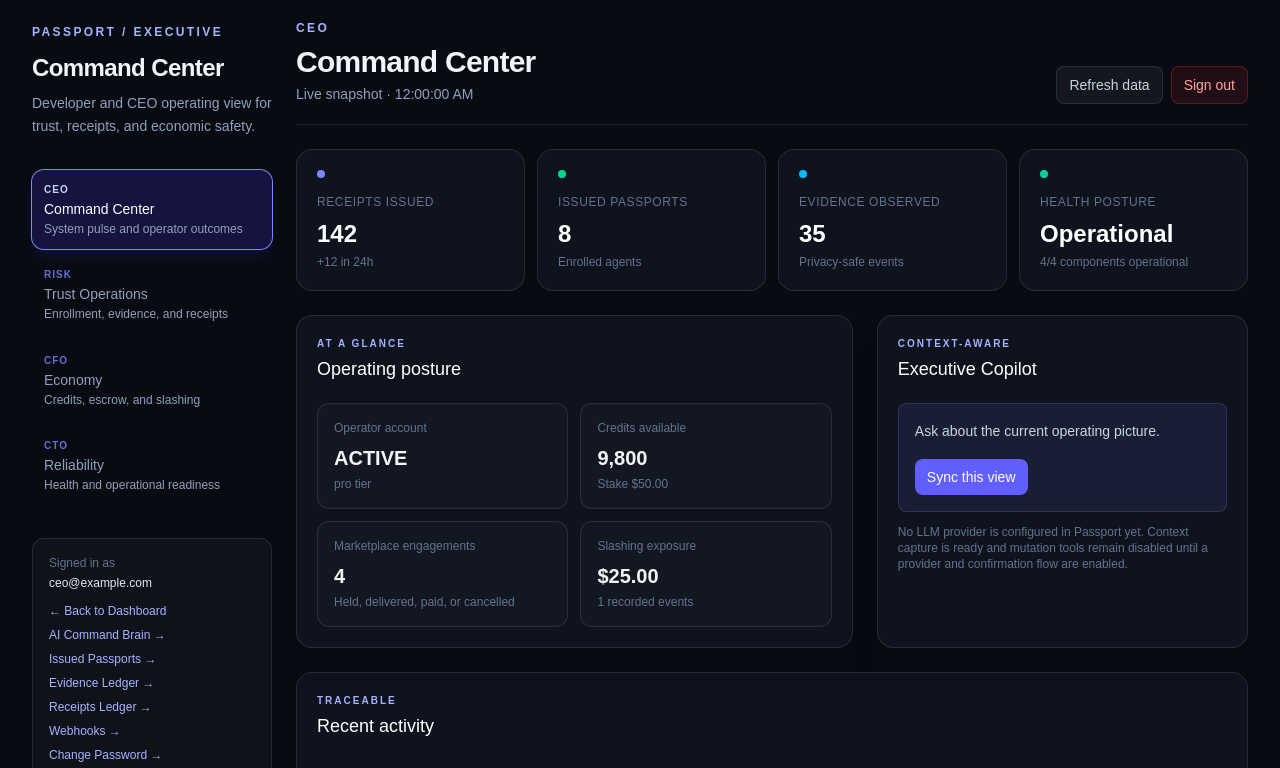
Test: ExecutiveDashboard tab switching › switches to Trust Operations tab when clicked
The image size is (1280, 768).
Expected: the heading "Operating posture" is shown, [317,359,461,379]
Click the tab "Risk Trust Operations Enrollment, evidence, and receipts" at coordinates (152, 295), box [32,255,272,334]
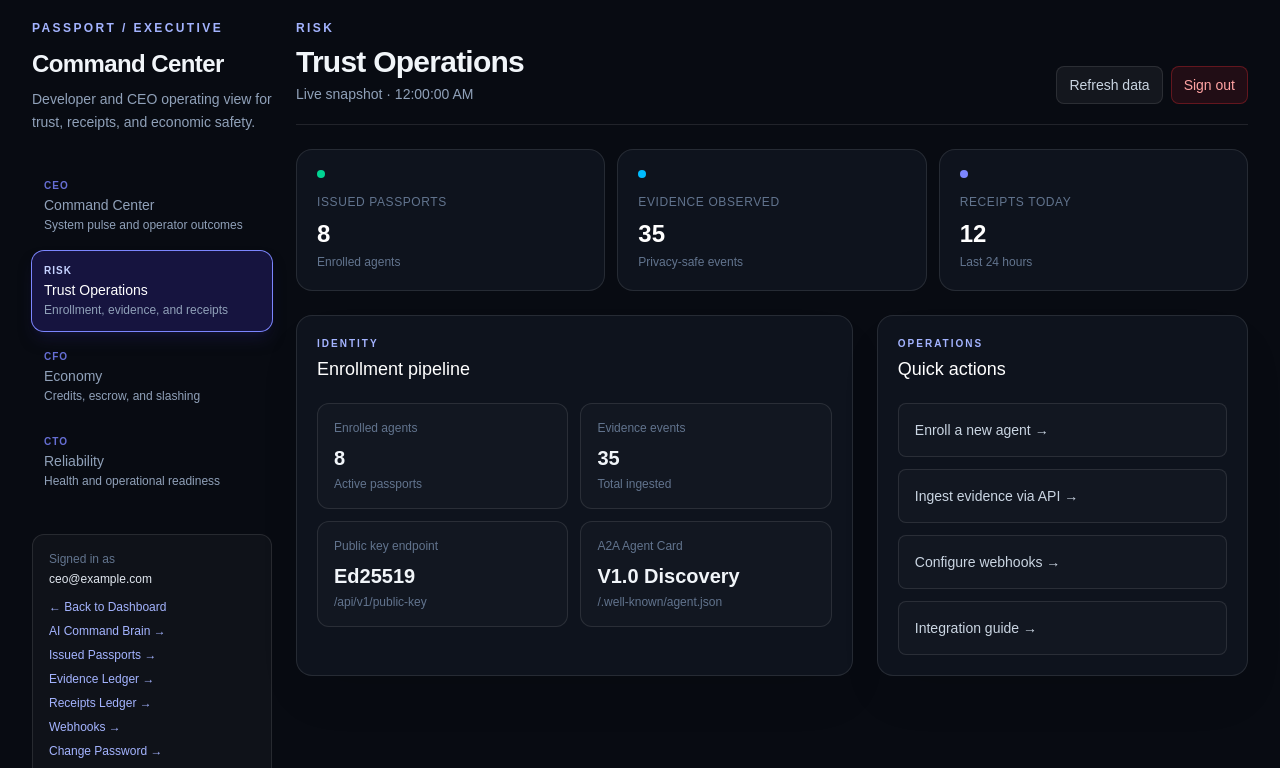
Expected: the heading "Enrollment pipeline" is shown, [317,359,470,379]
Expected: the link "Enroll a new agent →" is shown, [898,403,1227,457]
